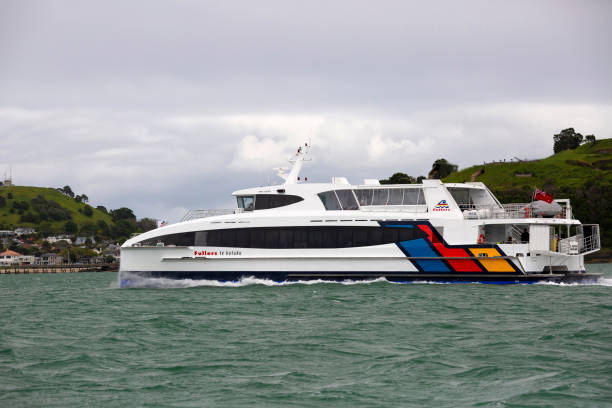ferry: (118, 137, 601, 284)
